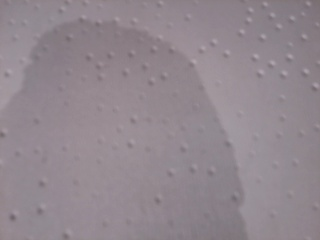Water_detected: (24, 59, 214, 240)
